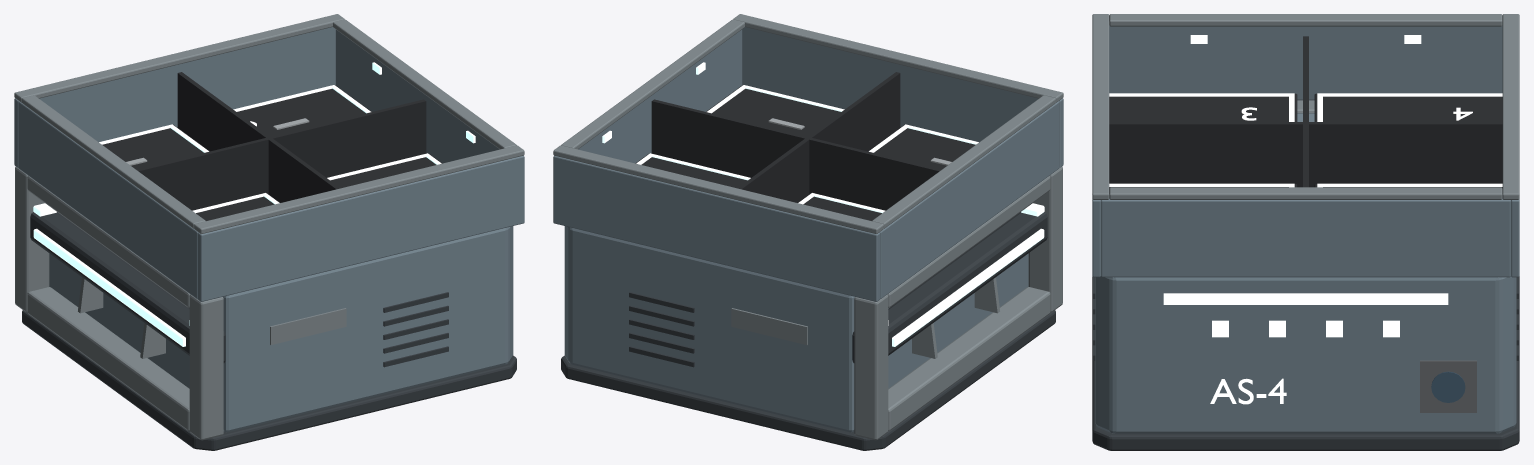
The model's file is robot-2761-spec2027.glb.
The picture shows the model from 3 angles, left to right: view 1: azimuth 30°, elevation 25°; view 2: azimuth 150°, elevation 25°; view 3: azimuth 270°, elevation 25°; orthographic projection. The views are drawn at different scales.
Visible parts, largest first — view 1: Hangar_TeamPrimaryShell, Hangar_RobotMatteAluminum, Hangar_CarbonPlate, Hangar_RobotMatteGraphite, LightBar_RobotMatteGraphite, Hangar_TeamGlow, LightBar_TeamGlow, LightBar_RobotMatteAluminum; view 2: Hangar_TeamPrimaryShell, Hangar_RobotMatteAluminum, Hangar_CarbonPlate, Hangar_RobotMatteGraphite, LightBar_RobotMatteGraphite, Hangar_TeamGlow, LightBar_TeamGlow, LightBar_RobotMatteAluminum; view 3: Hangar_TeamPrimaryShell, Hangar_CarbonPlate, Hangar_RobotMatteAluminum, Hangar_RobotMatteGraphite, Hangar_TeamGlow, Hangar_StatusWhite, VideoTransmitterBezel, VideoTransmitterLens.
Boxes of the visible parts, bbox=[...] form: Hangar_TeamPrimaryShell: bbox=[14, 27, 524, 432]; Hangar_RobotMatteAluminum: bbox=[14, 14, 524, 440]; Hangar_CarbonPlate: bbox=[102, 72, 442, 220]; Hangar_RobotMatteGraphite: bbox=[22, 292, 516, 450]; LightBar_RobotMatteGraphite: bbox=[30, 212, 225, 362]; Hangar_TeamGlow: bbox=[99, 62, 475, 213]; LightBar_TeamGlow: bbox=[33, 203, 189, 346]; LightBar_RobotMatteAluminum: bbox=[78, 277, 165, 358]; Hangar_TeamPrimaryShell: bbox=[553, 27, 1063, 432]; Hangar_RobotMatteAluminum: bbox=[553, 14, 1063, 440]; Hangar_CarbonPlate: bbox=[635, 72, 975, 220]; Hangar_RobotMatteGraphite: bbox=[561, 292, 1055, 450]; LightBar_RobotMatteGraphite: bbox=[852, 212, 1047, 362]; Hangar_TeamGlow: bbox=[602, 62, 978, 213]; LightBar_TeamGlow: bbox=[888, 203, 1044, 346]; LightBar_RobotMatteAluminum: bbox=[912, 277, 999, 358]; Hangar_TeamPrimaryShell: bbox=[1092, 25, 1519, 433]; Hangar_CarbonPlate: bbox=[1109, 36, 1502, 188]; Hangar_RobotMatteAluminum: bbox=[1092, 14, 1519, 199]; Hangar_RobotMatteGraphite: bbox=[1092, 276, 1519, 450]; Hangar_TeamGlow: bbox=[1109, 35, 1502, 304]; Hangar_StatusWhite: bbox=[1210, 107, 1472, 404]; VideoTransmitterBezel: bbox=[1420, 360, 1476, 412]; VideoTransmitterLens: bbox=[1431, 371, 1465, 402].
Size of the model in its own units: 0.3 by 0.2 by 0.3.
